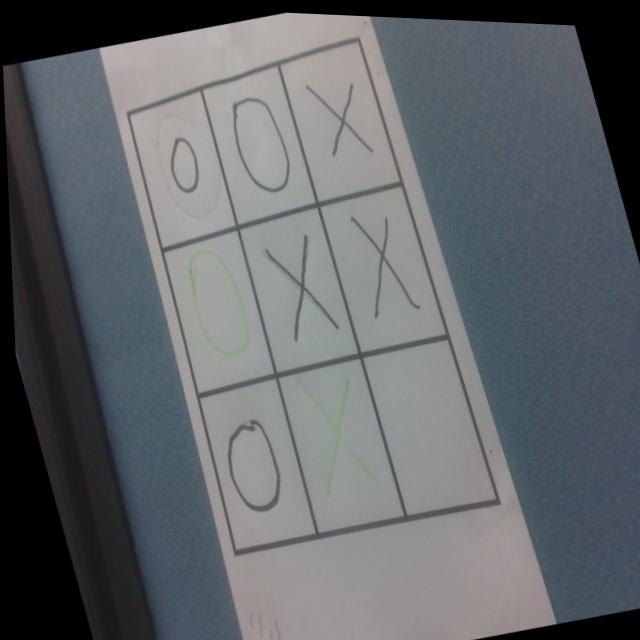null: (358, 330, 493, 519)
o: (175, 234, 255, 361), (222, 86, 296, 196), (211, 412, 285, 516), (158, 131, 205, 195)
table: (105, 22, 500, 565)
x: (298, 376, 371, 492), (346, 205, 415, 319), (262, 232, 334, 341), (309, 72, 371, 162)
